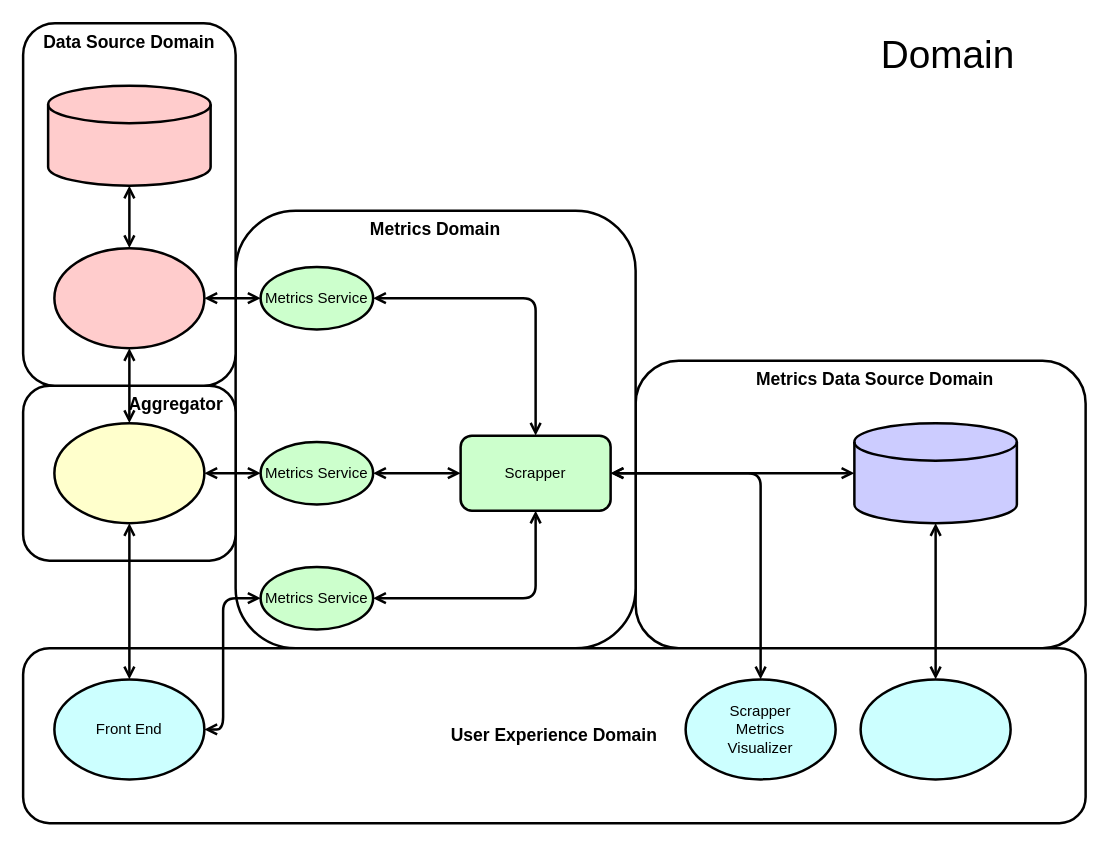
The diagram is 1108 pixels wide and 845 high, and some of its shapes have lost their labels. Here are the shapes that lost their labels. From the top down, the centre of each, then its label:
[128,135]: Persistence (Info + Cameras)
[128,297]: Raw Data Service
[128,472]: Aggregator Service
[935,472]: Persistence (Metrics)
[935,729]: Persisted Metrics Visualizer
